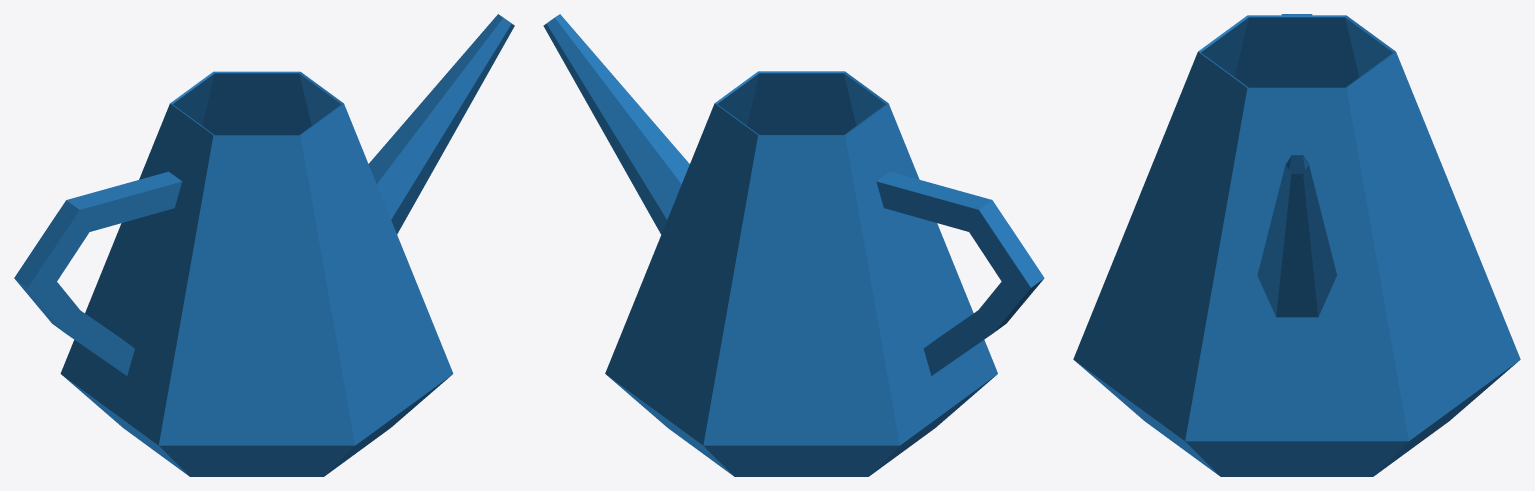
Rendered from лейка.fbx.
3 renders of one model, left to right at view 1: azimuth 30°, elevation 25°; view 2: azimuth 150°, elevation 25°; view 3: azimuth 270°, elevation 25°, orthographic. The views are drawn at different scales.
Visible parts, largest first — view 1: Cylinder.001; view 2: Cylinder.001; view 3: Cylinder.001.
Part boxes in pixels (left/top/right/bottom): Cylinder.001: left=14, top=14, right=514, bottom=476; Cylinder.001: left=543, top=14, right=1044, bottom=476; Cylinder.001: left=1073, top=14, right=1520, bottom=476.
Size of the model in its own units: 208 by 142 by 144.
